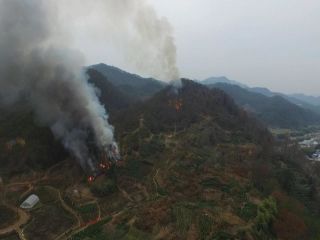smoke: (2, 1, 185, 177)
